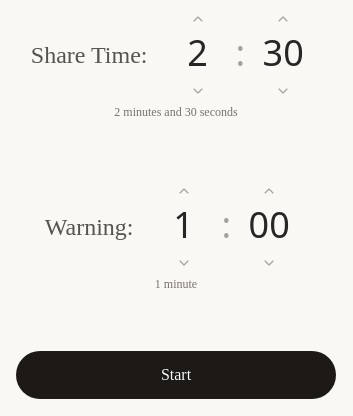
Test: App › setup › does not start the timer when committing a field with Enter
The image size is (353, 416).
Clear the 1st field named "Minutes" at (198,53), box [164,33,232,73]
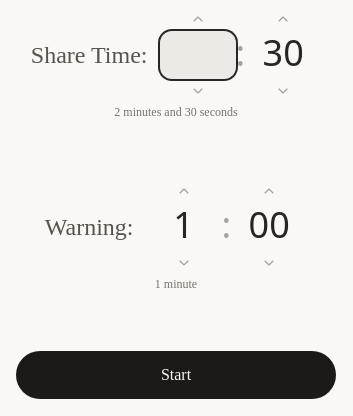
Clear the 2nd field named "Seconds" at (283,53), box [249,33,317,73]
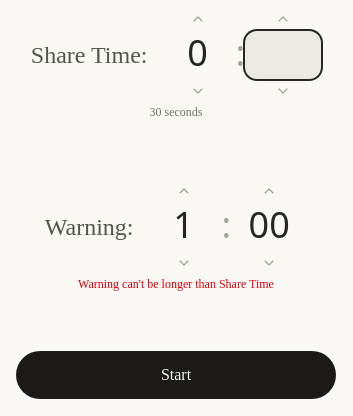
Clear the 3rd field named "Minutes" at (184,225), box [150,205,218,245]
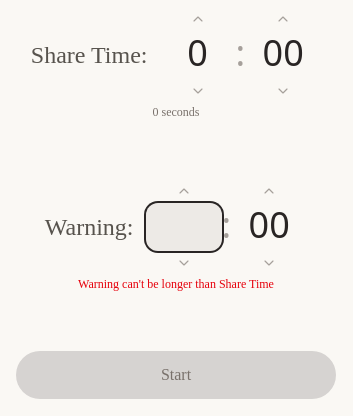
Clear the 4th field named "Seconds" at (269,225), box [235,205,303,245]
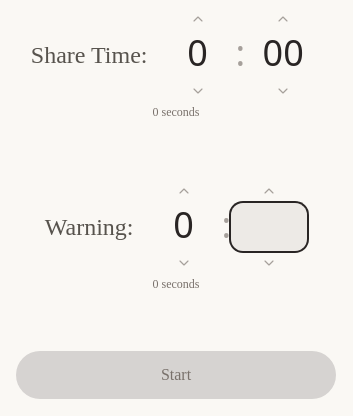
Press Tab
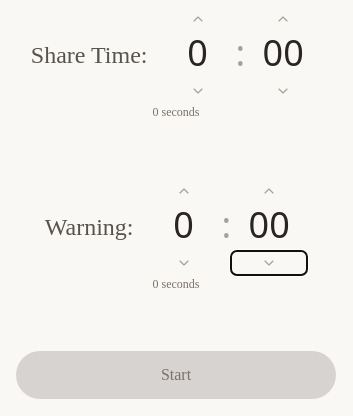
Type "44" into the 1st field named "Minutes".
click(198, 53); type("44")  # box [164,33,232,73]
Then press Enter
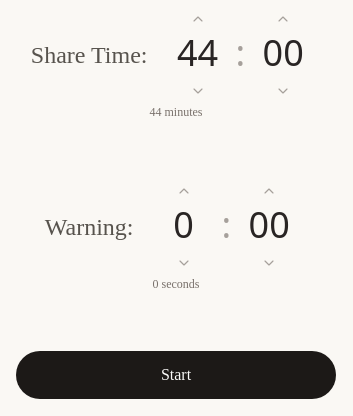
expect the button "Start" is enabled: met, box [16,351,336,399]
